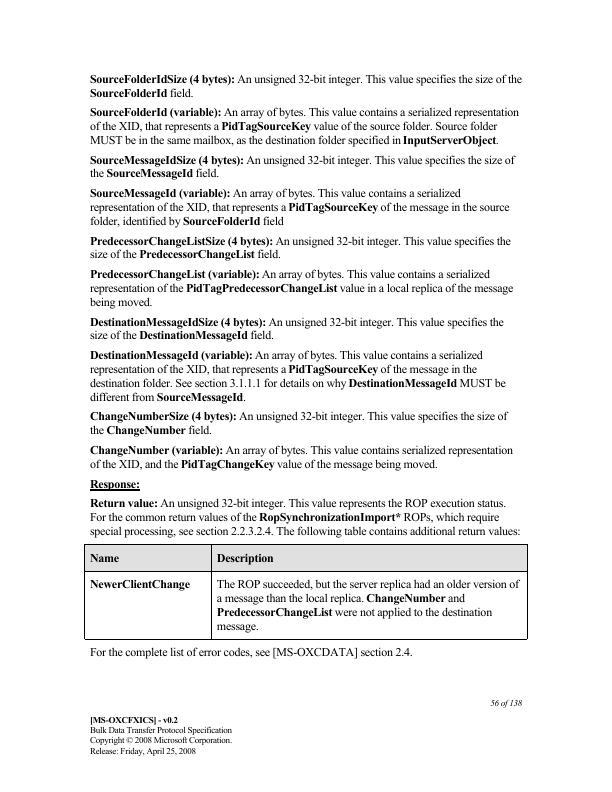table: (83, 544, 530, 643)
text: (87, 350, 509, 404), (87, 495, 523, 539), (87, 105, 520, 147), (88, 185, 510, 228), (88, 266, 514, 308), (86, 442, 514, 473), (88, 152, 517, 182), (87, 72, 525, 100), (88, 410, 510, 436), (87, 315, 507, 341), (87, 235, 512, 260), (86, 715, 233, 755), (88, 647, 413, 659), (86, 478, 143, 493), (487, 697, 524, 710)
